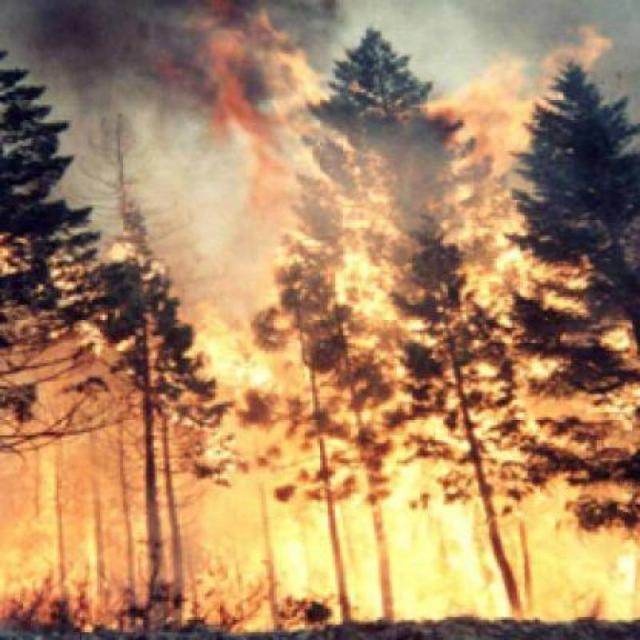Fire: (0, 152, 640, 640)
Smoke: (41, 0, 349, 120)
